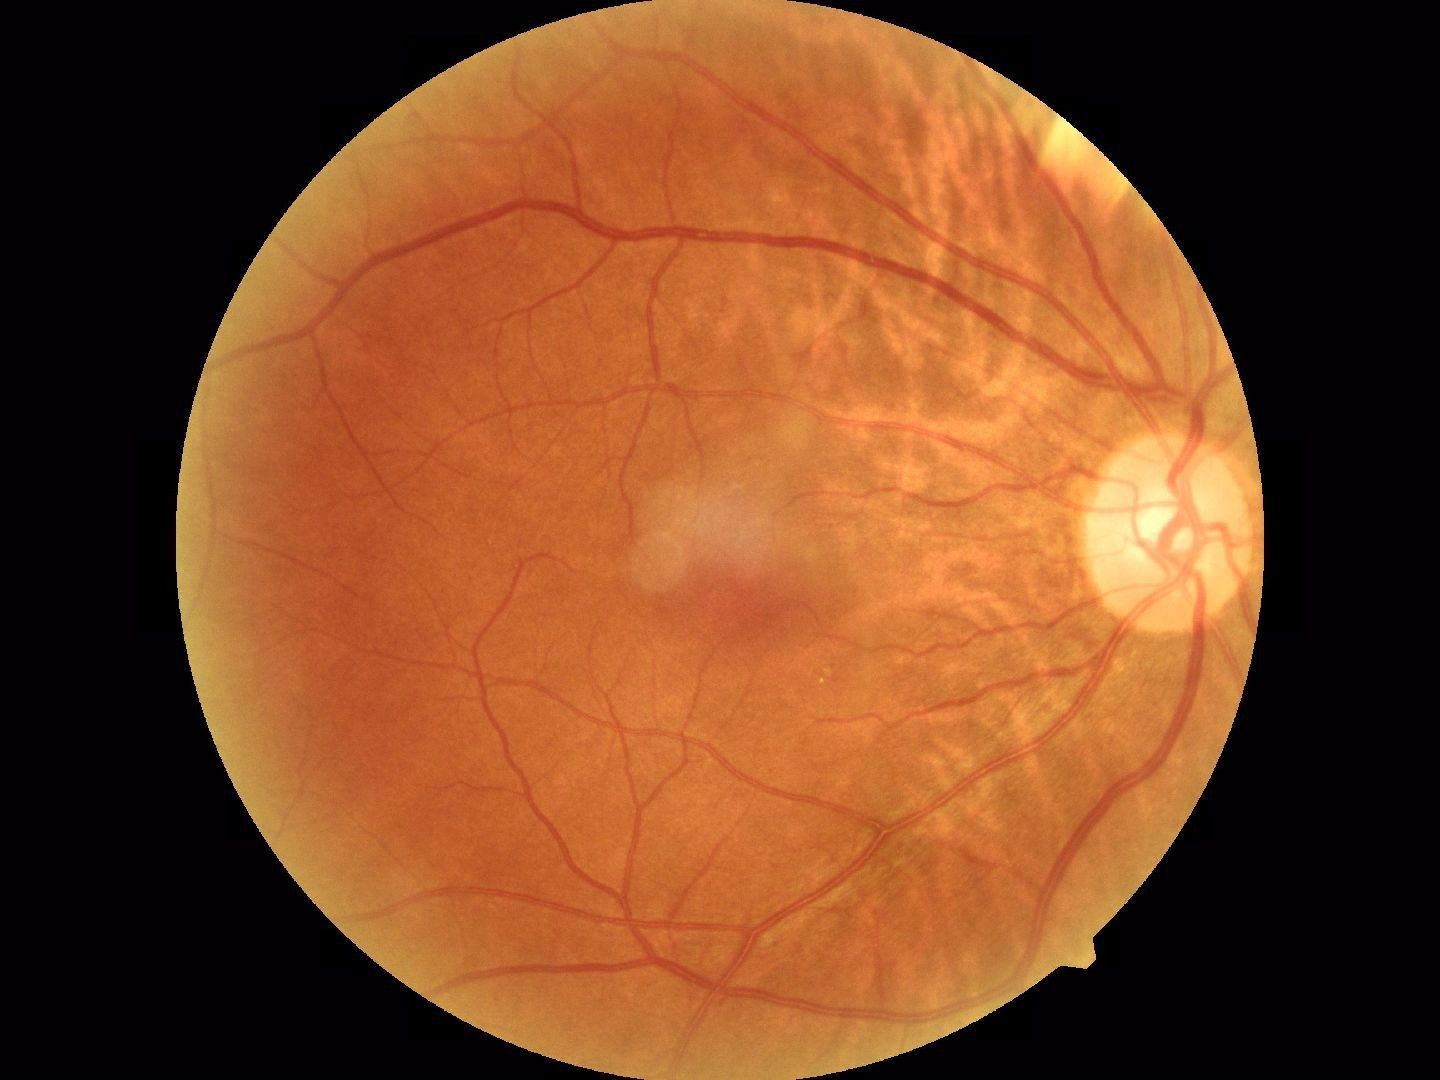Arterioles: (466, 309, 734, 481), (480, 669, 715, 842)
Hemorrhages: (621, 501, 872, 648)
Optic-Disc: (1089, 412, 1252, 628)
Venules: (494, 164, 935, 292), (1062, 653, 1176, 845)
